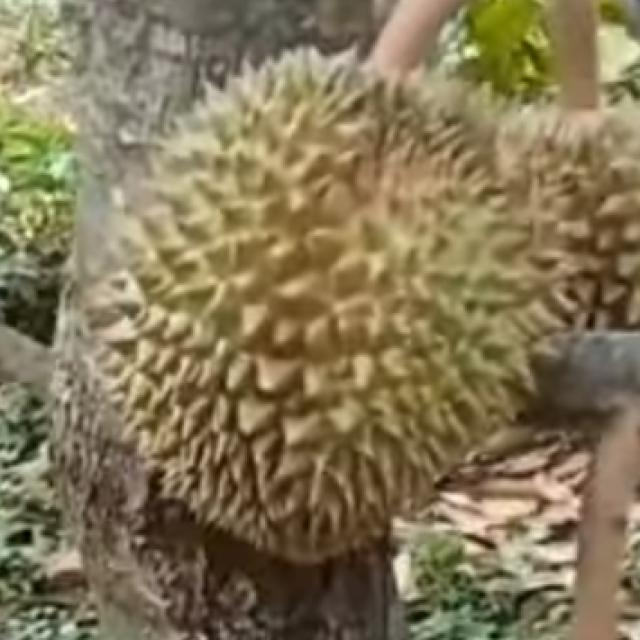mature: (90, 44, 554, 555)
